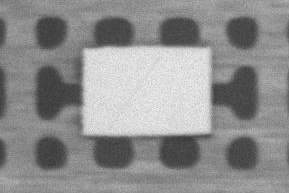DIE_CRACK: (163, 37, 240, 86)
